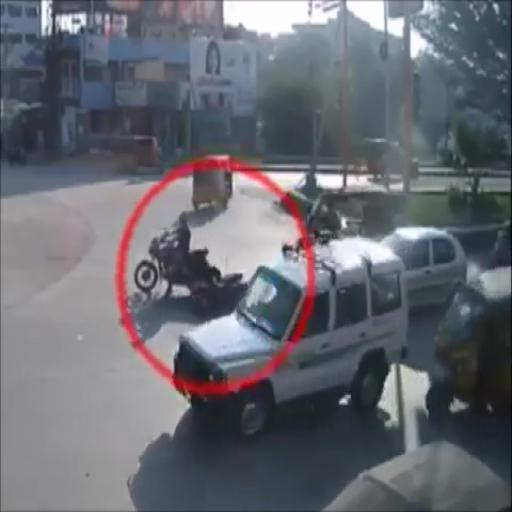小汽车: (171, 238, 410, 433), (380, 229, 469, 307), (193, 158, 233, 213)
自行车撞自行车: (134, 211, 252, 316)
